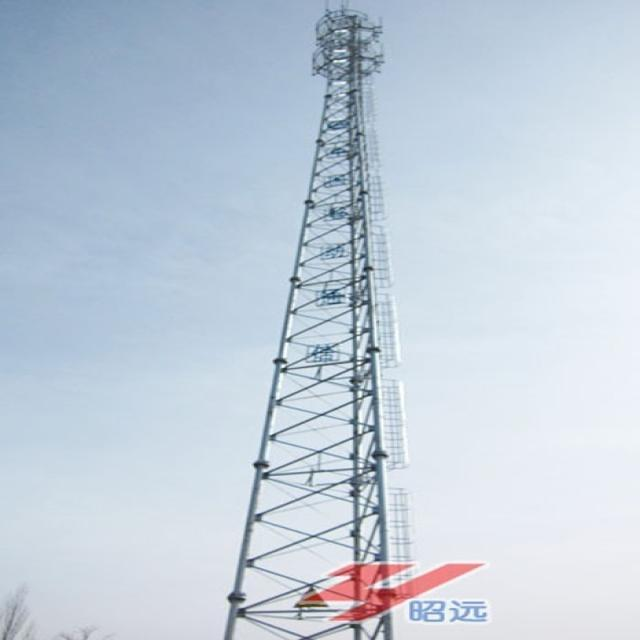non-critical vegetation: (258, 9, 415, 624)
